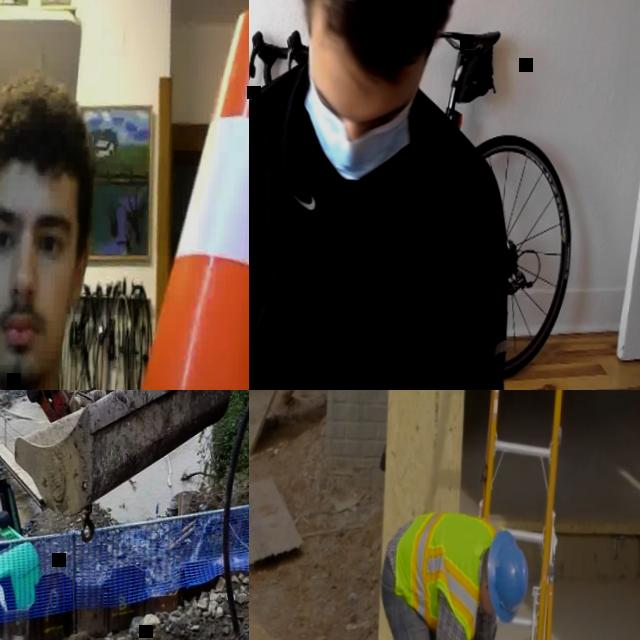Hardhat: (485, 528, 531, 624)
Mask: (300, 84, 418, 182)
NO-Hardhat: (299, 0, 468, 70), (0, 76, 91, 197)
NO-Mask: (0, 303, 67, 388), (482, 595, 492, 616)
NO-Safety Vest: (249, 74, 477, 390)
Person: (249, 0, 534, 390), (0, 71, 249, 390), (372, 506, 530, 640)
Safety Cone: (77, 0, 249, 390)
Safety Vest: (392, 508, 494, 640)
vehicle: (0, 390, 249, 640), (0, 390, 50, 627)
